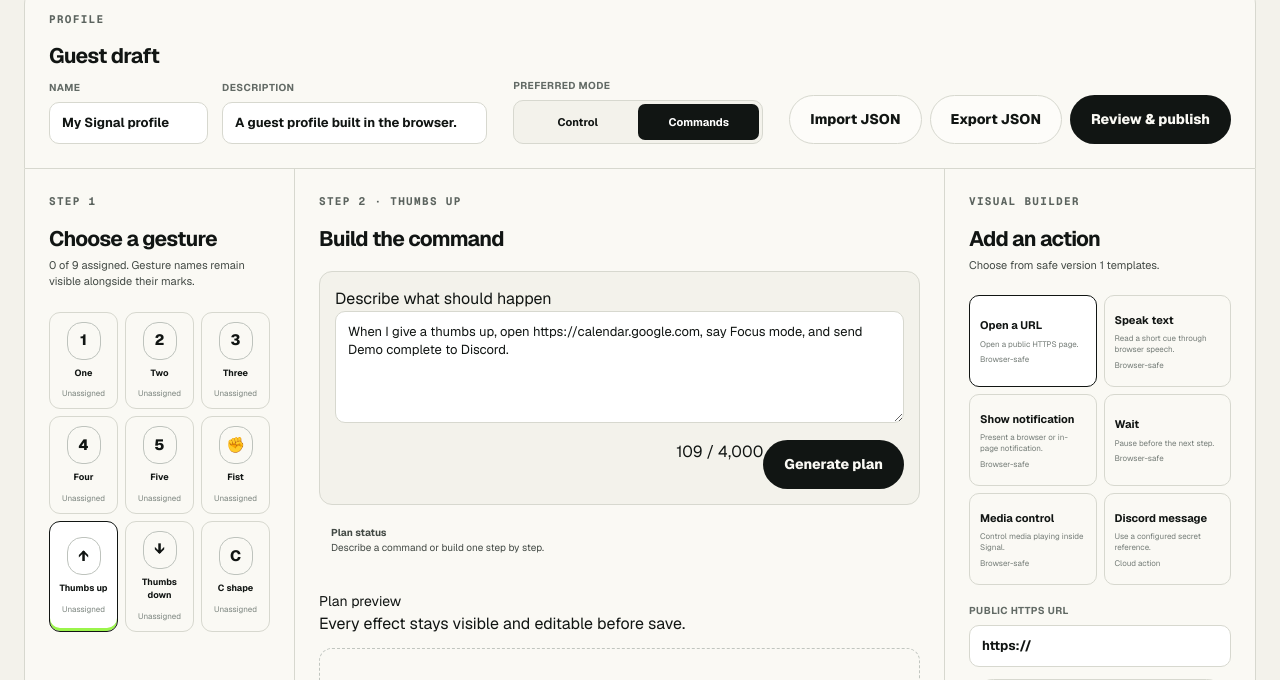
SignalBuilder › renders all nine labeled gestures and keeps selection visible
The image size is (1280, 680).
(page scrolled)
Expected: the button "↑ Thumbs up Unassigned" is shown, [49,521,118,632]
Click the button "1 One Unassigned". click: (84, 360)
box: [49,312,118,409]
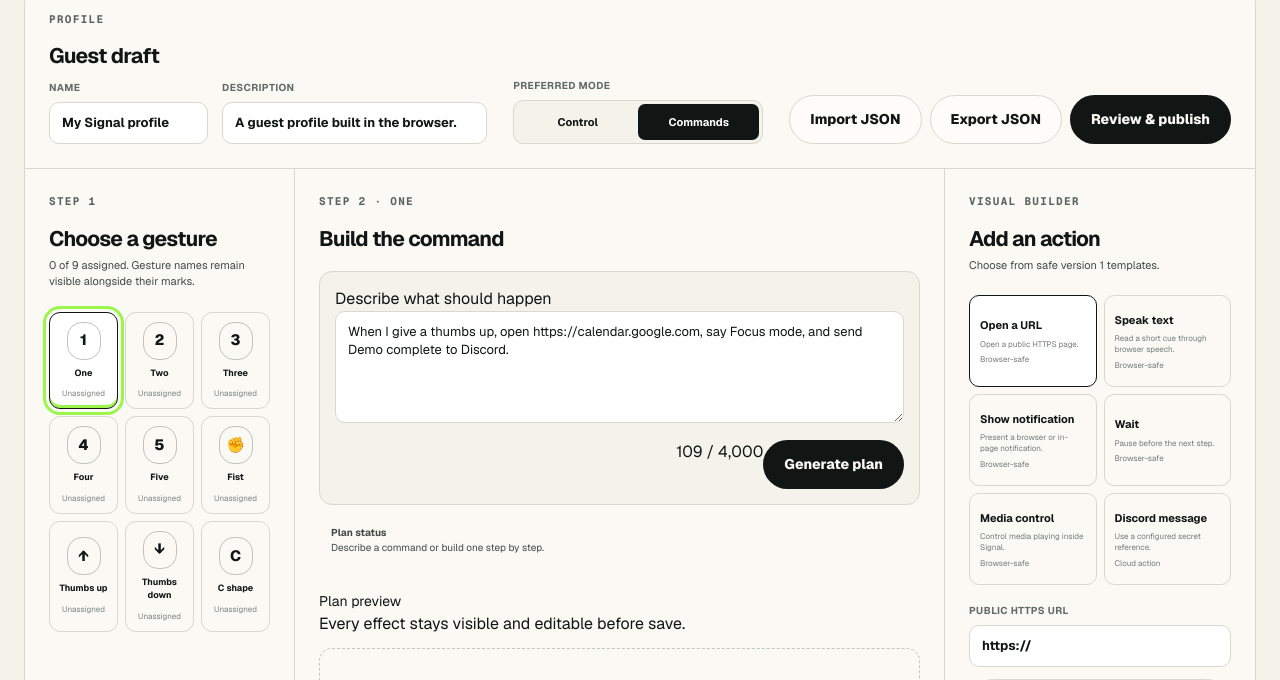
Expected: the radio button labelled "Commands" is shown, [638,104,759,140]
Expected: the text "Step 2 · One" is shown, [319,194,414,208]
